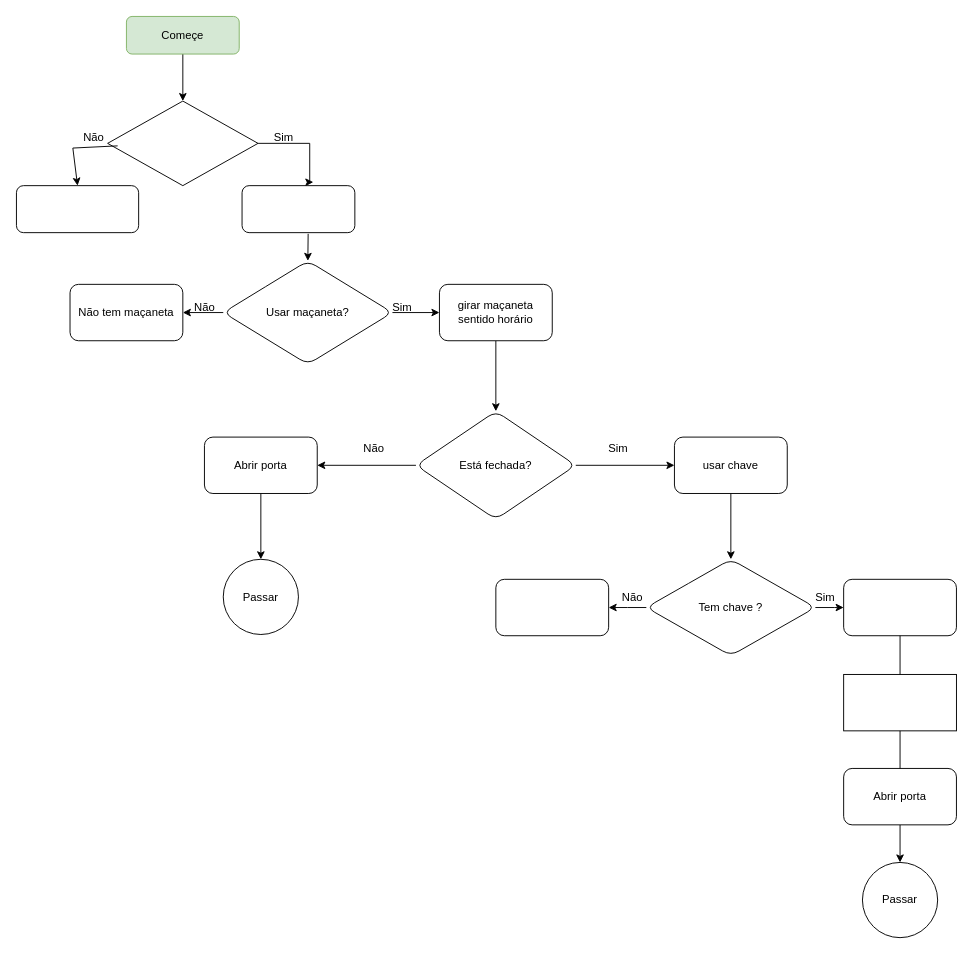
Image size: 973x954. Some labels were removed from this diagram. The centre of each missing label's shape, as x and y in pixels:
"caminha até a porta" belongs at [298,209].
"Distância > 120cm?" belongs at [182,143].
"Girar chave sentido anti-horário" belongs at [899,702].
"Inserir Chave" belongs at [899,607].
"não caminha caminhar até a porta" belongs at [77,209].
"Pegar Chave" belongs at [552,607].
